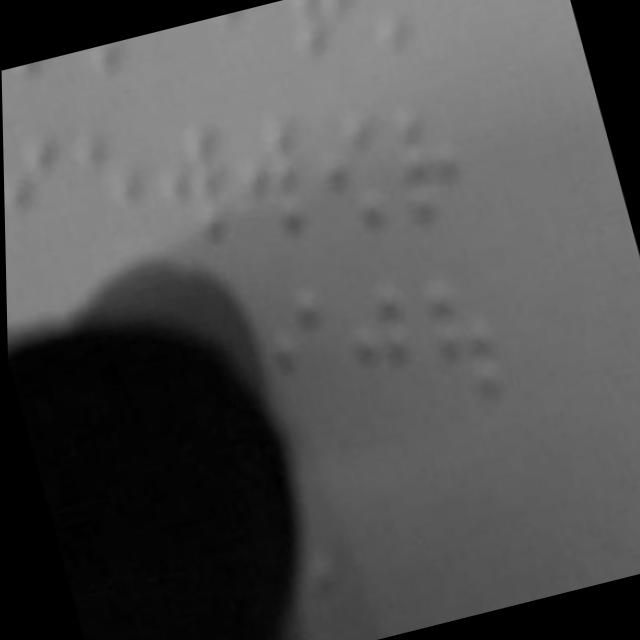braiile: (239, 272, 356, 442), (328, 267, 439, 438), (400, 251, 510, 423), (130, 107, 245, 268), (288, 96, 401, 252), (210, 102, 320, 261), (370, 83, 478, 242), (53, 114, 158, 270), (2, 121, 85, 285)
